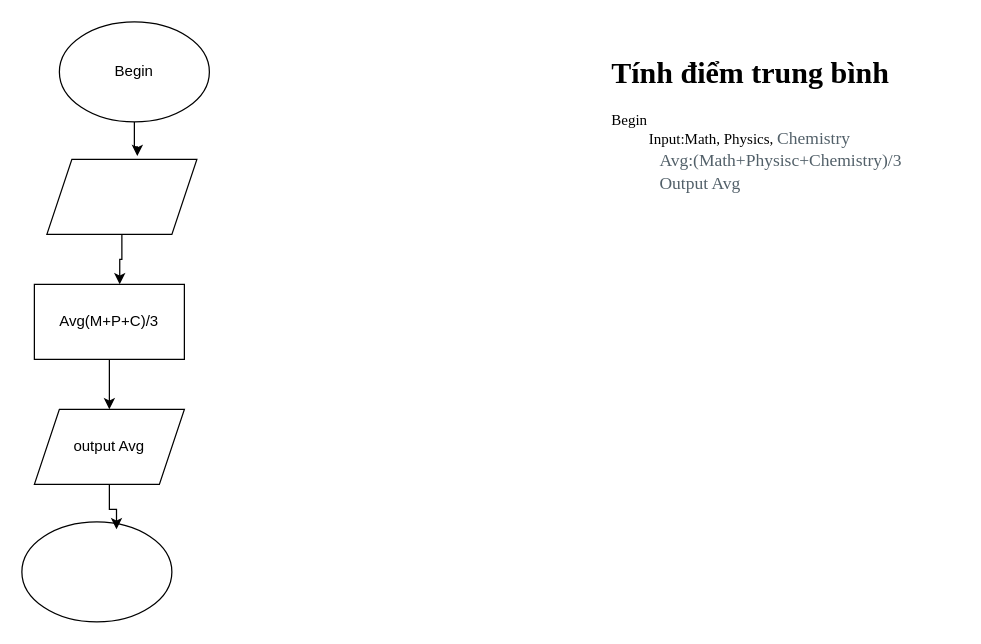
The diagram is 981 pixels wide and 644 high, and some of its shapes have lost their labels. The centre of each missing label's shape, as x and y in pixels:
"End" belongs at (x=96, y=571).
"Input M,P,C" belongs at (x=121, y=196).
